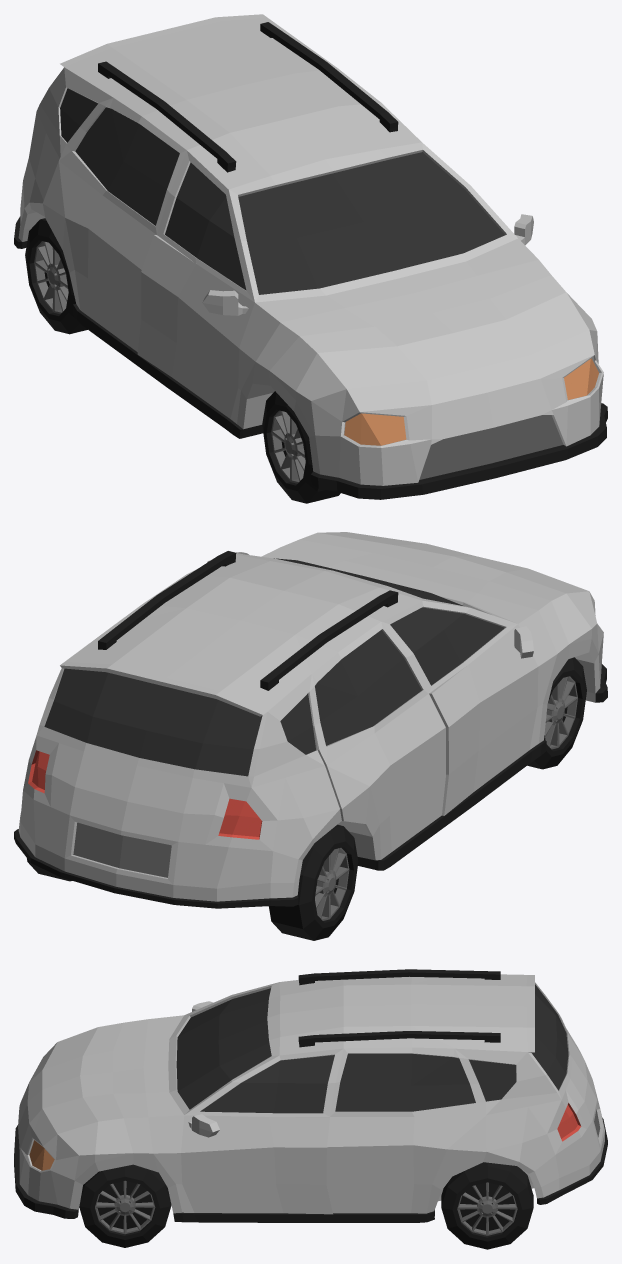
Rendered from suv.glb.
The picture shows the model from 3 angles, top to bottom: view 1: azimuth 30°, elevation 25°; view 2: azimuth 150°, elevation 25°; view 3: azimuth 270°, elevation 25°; orthographic projection. The views are drawn at different scales.
Visible parts, largest first — view 1: SUV_Cube; view 2: SUV_Cube; view 3: SUV_Cube.
Boxes of the visible parts, x1,y1,x2,y2 form: SUV_Cube: (14, 14, 607, 503); SUV_Cube: (14, 532, 607, 940); SUV_Cube: (14, 969, 607, 1249).
Bounding box in the file's own units: 2.11 × 1.53 × 4.21.
Materials: 1 (1 with a texture image).
